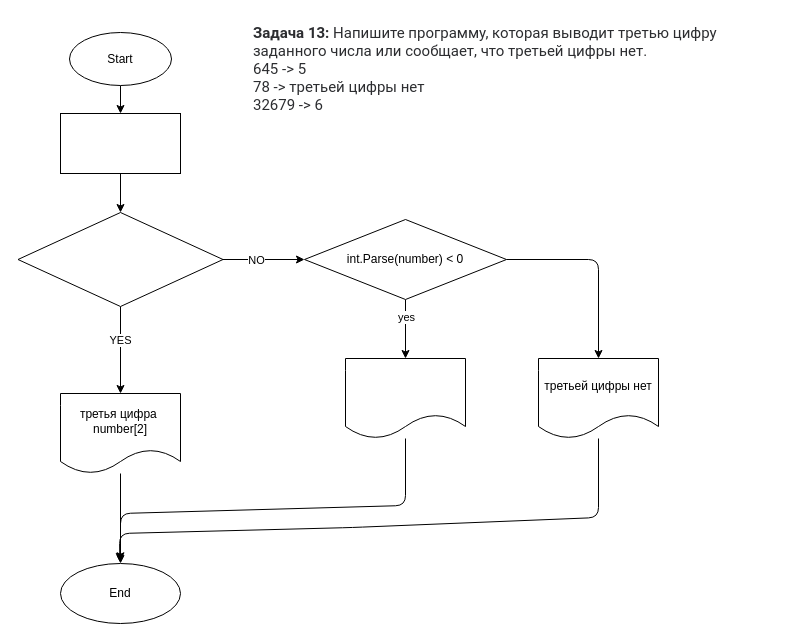
Some shapes in this 808 by 641 pixel diagram are drawn without their labels. Here are the shapes that lost their labels. From the top down, the box of each, then its label:
(60, 112, 180, 174): number тип string
(17, 212, 223, 306): number.Length >= 3 int.Parse(number) > 0
(344, 358, 466, 438): Введите положетельное число более 99
